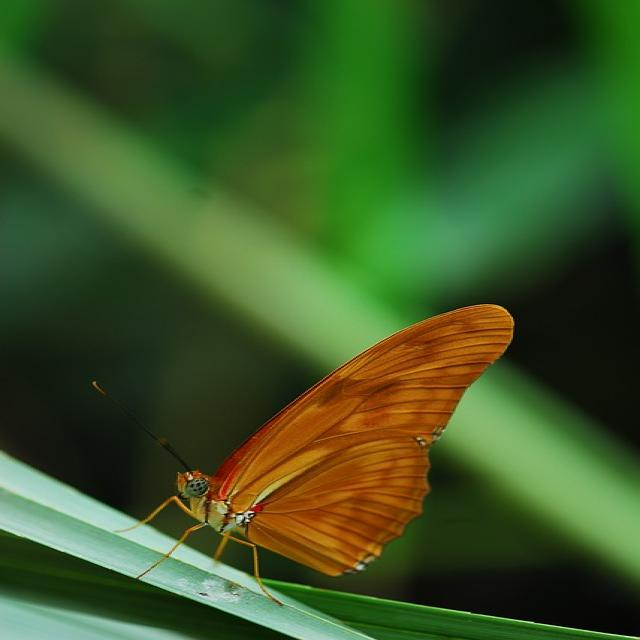butterfly: (170, 305, 514, 579)
